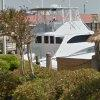Boat: (27, 3, 93, 57)
